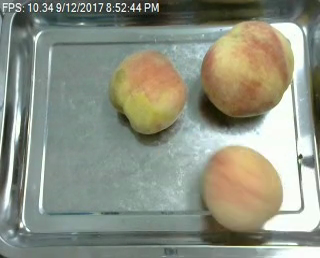Peach: (202, 19, 295, 118), (201, 143, 283, 232), (108, 49, 187, 135)
